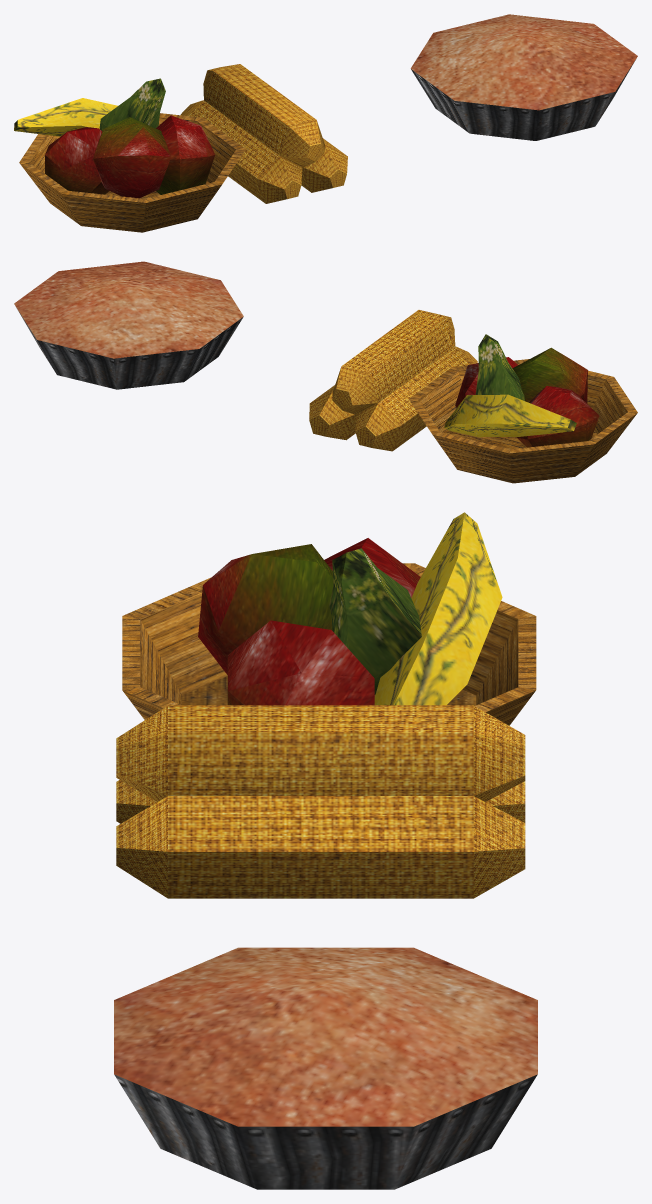
Rendered from mm9_deco_shelfitem07hbread.glb.
3 views of the same model, one above another, from view 1: azimuth 30°, elevation 25°; view 2: azimuth 150°, elevation 25°; view 3: azimuth 270°, elevation 25° (orthographic). The views are drawn at different scales.
Visible parts, largest first — view 1: Shelfitem07hbread; view 2: Shelfitem07hbread; view 3: Shelfitem07hbread.
Boxes of the visible parts, <box> form: Shelfitem07hbread: <box>14,14,637,232</box>; Shelfitem07hbread: <box>14,261,637,483</box>; Shelfitem07hbread: <box>114,512,537,1189</box>.
Size of the model in its own units: 1.13 by 0.2038 by 0.3598.
2 materials, 2 textured.
